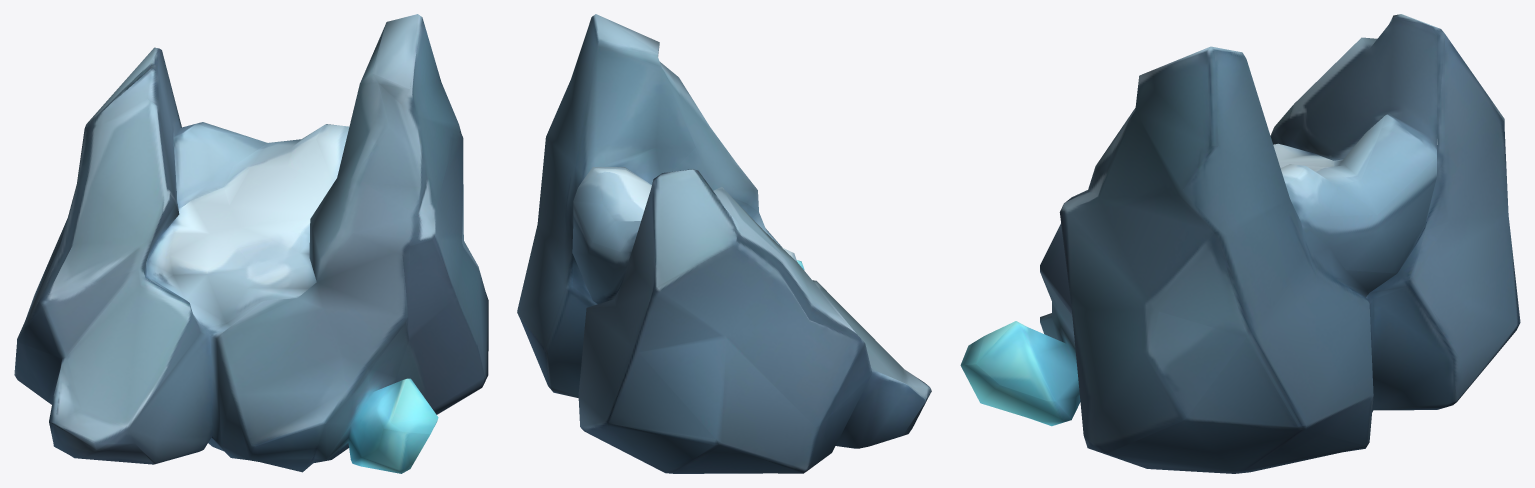
3 renders of one model, left to right at view 1: azimuth 30°, elevation 25°; view 2: azimuth 150°, elevation 25°; view 3: azimuth 270°, elevation 25°, orthographic. The views are drawn at different scales.
Visible parts, largest first — view 1: glacier-rock-3; view 2: glacier-rock-3; view 3: glacier-rock-3.
Boxes of the visible parts, <box> form: glacier-rock-3: <box>14,14,488,473</box>; glacier-rock-3: <box>517,14,931,473</box>; glacier-rock-3: <box>960,14,1520,473</box>.
Bounding box in the file's own units: 0.3162 × 0.272 × 0.3118.
1 material, 1 textured.
